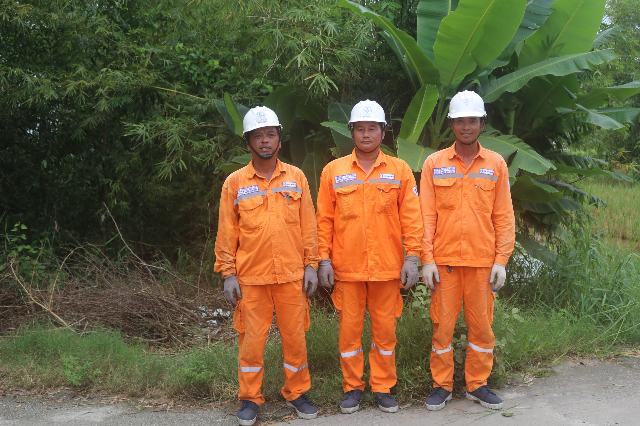gloves: (388, 254, 423, 288), (487, 259, 516, 299), (223, 272, 247, 308), (419, 254, 440, 292), (297, 261, 318, 297), (317, 257, 337, 289)
helmet: (441, 86, 494, 123), (234, 97, 282, 135), (351, 89, 386, 131)
shoes: (224, 388, 273, 426), (364, 376, 407, 414), (282, 387, 317, 426), (466, 375, 503, 410), (427, 375, 453, 415), (339, 382, 362, 415)
